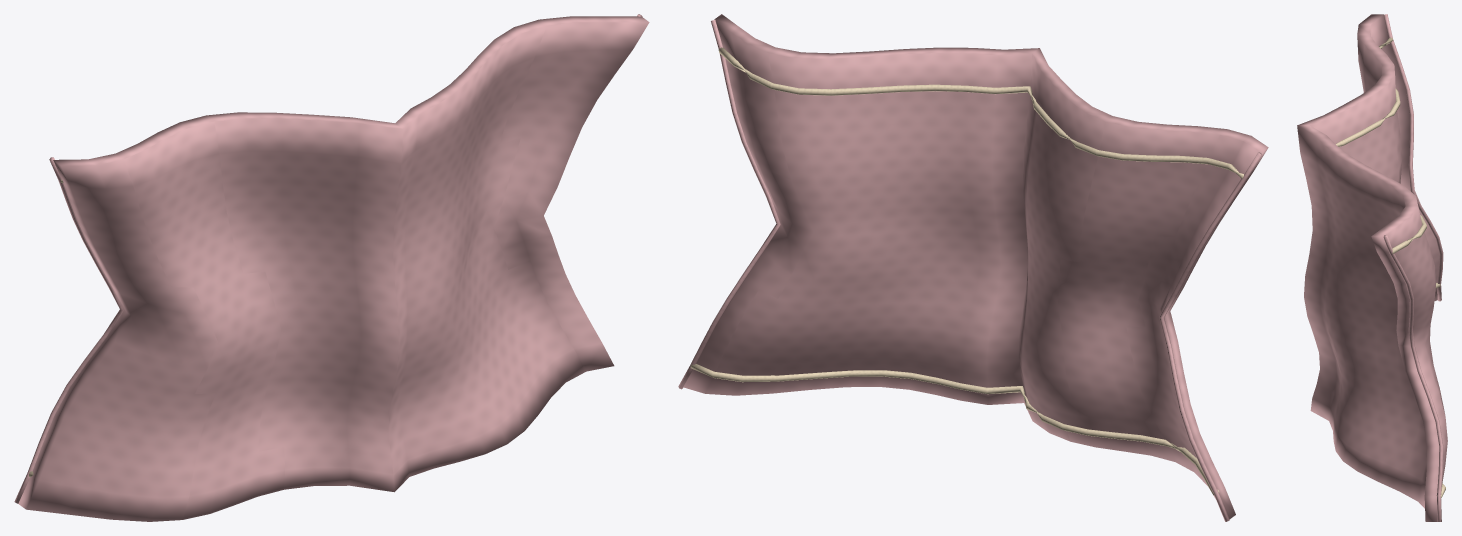
File: test_b_towel.glb
The picture shows the model from 3 angles, left to right: view 1: azimuth 30°, elevation 25°; view 2: azimuth 150°, elevation 25°; view 3: azimuth 270°, elevation 25°; orthographic projection. The views are drawn at different scales.
Visible parts, largest first — view 1: Body; view 2: Body; view 3: Body.
Boxes of the visible parts, x1=… form: Body: x1=14, y1=14, x2=649, y2=521; Body: x1=678, y1=14, x2=1268, y2=521; Body: x1=1297, y1=14, x2=1447, y2=521.
Size of the model in its own units: 0.25 by 0.15 by 0.0714.
Materials: 2 (2 with a texture image).
